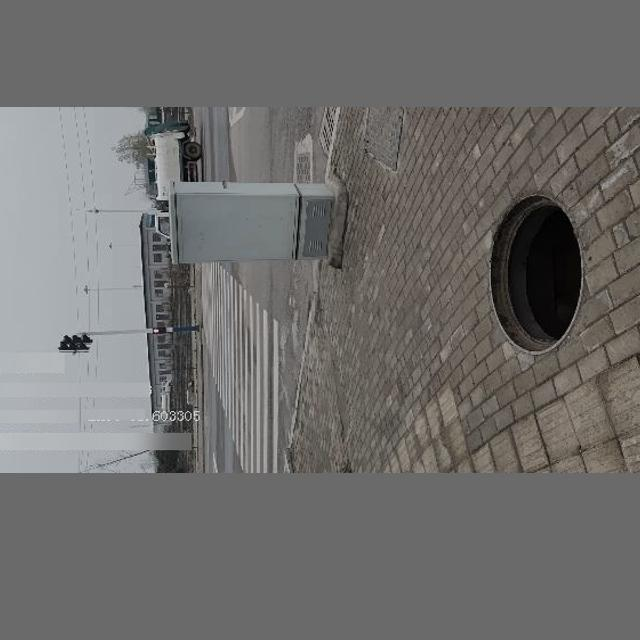lose: (488, 194, 584, 355)
